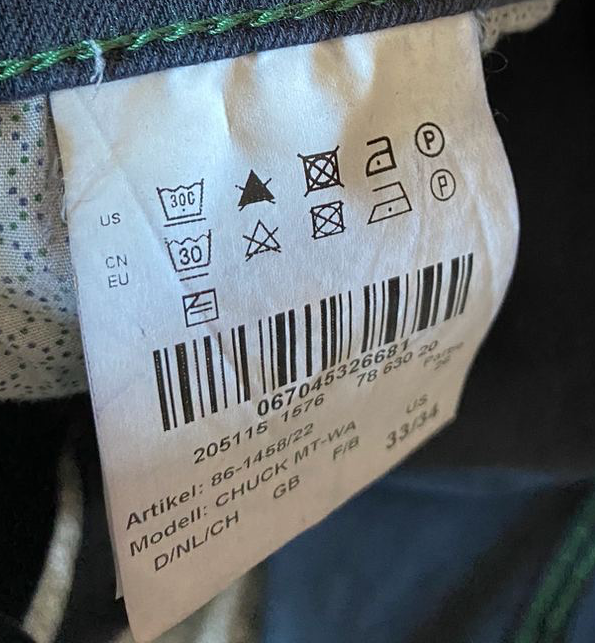do_not_bleach: (230, 158, 281, 212), (238, 215, 288, 265)
do_not_tumble_drying: (298, 141, 347, 197), (307, 198, 350, 240)
dry_clean_tetrachloroethylene_pce_only: (413, 116, 449, 160), (425, 164, 461, 202)
dry_flat_in_the_shade: (178, 283, 225, 331)
ironing_at_low_temp: (364, 174, 420, 224), (362, 128, 399, 179)
wash_at_or_below_30_mild_fine_wash: (163, 224, 223, 282), (154, 173, 211, 227)
